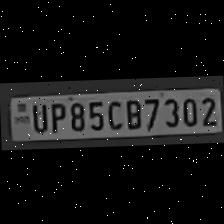0: (178, 92, 198, 124)
2: (196, 92, 218, 125)
3: (160, 93, 180, 127)
5: (84, 96, 106, 130)
7: (141, 94, 161, 129)
8: (66, 98, 86, 131)
B: (122, 94, 142, 128)
C: (104, 95, 122, 129)
P: (46, 98, 66, 132)
U: (28, 99, 48, 130)
